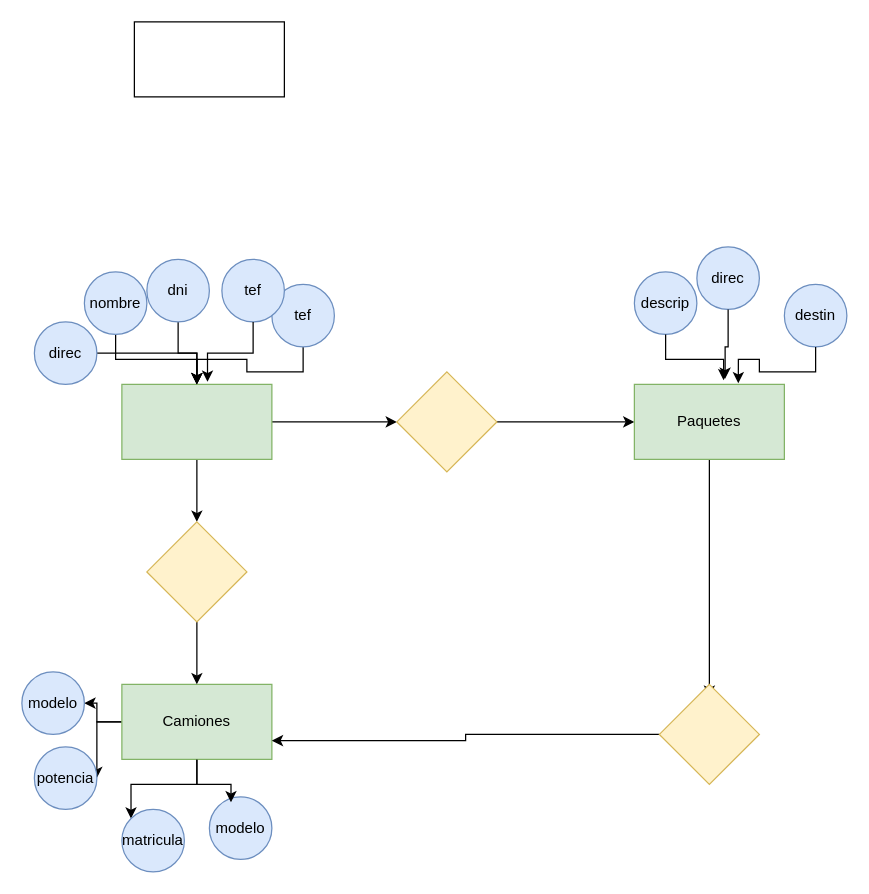
Image size: 869x894. Some labels were removed from this diagram. The shapes that lost their labels are listed below. From the top down, each one's box as (x1, y1, x2, y2) in pixels, then its label:
(133, 21, 284, 97): Empresa
(121, 383, 272, 459): Camioneros
(396, 371, 497, 472): Reparten
(146, 521, 247, 622): conducen
(658, 683, 759, 784): se llevan en
